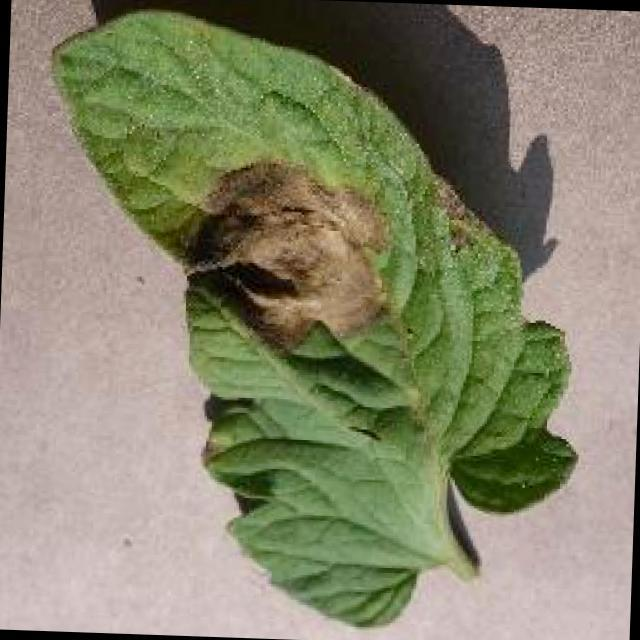Tomato late blight leaf: (32, 5, 592, 637)
